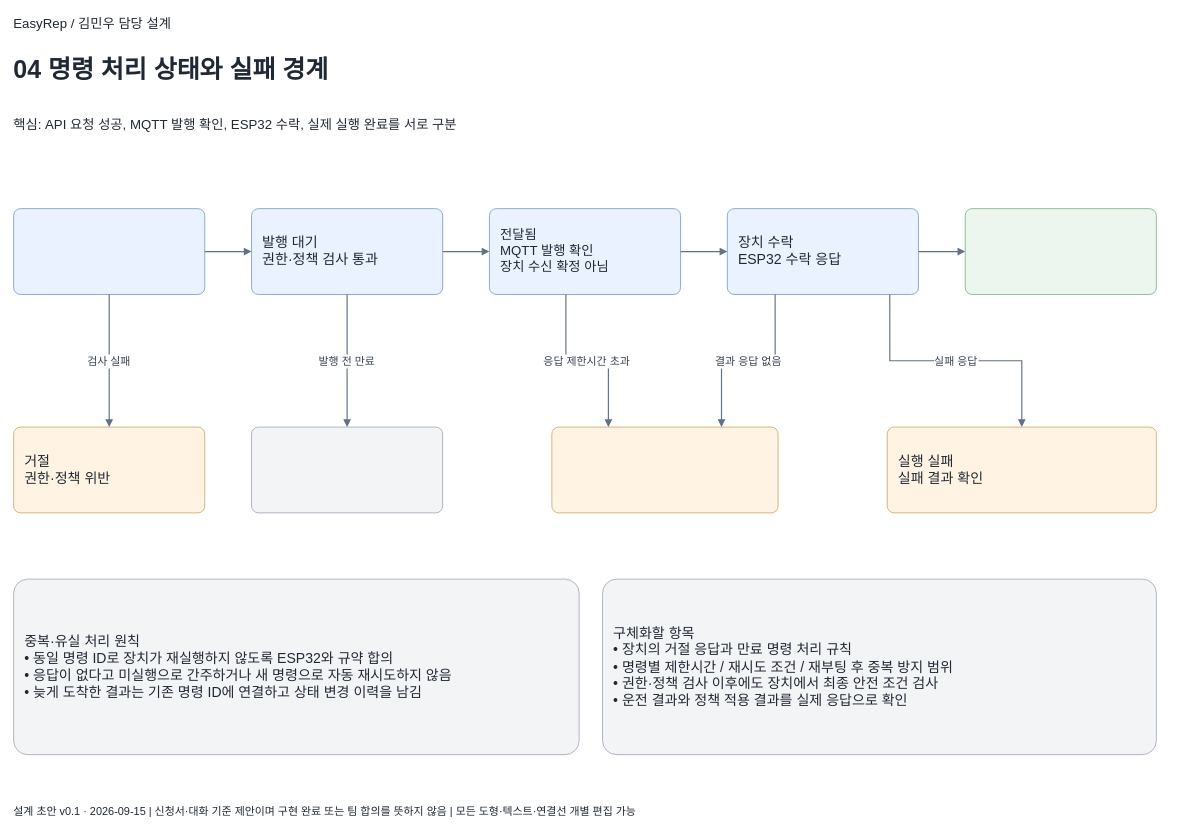
Some shapes in this 1197 by 838 pixel diagram are drawn without their labels. The centre of each missing label's shape, as x and y in pixels:
결과 미확인 수락·완료 응답 없음: pixel 664 469
만료 발행 전 제한시간 초과: pixel 347 469
실행 완료 실행 결과 확인: pixel 1060 251
요청 기록 고유 명령 ID 부여: pixel 109 251
